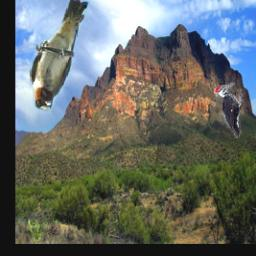Swallow: (31, 0, 91, 114)
Woodpecker: (214, 82, 244, 139)
